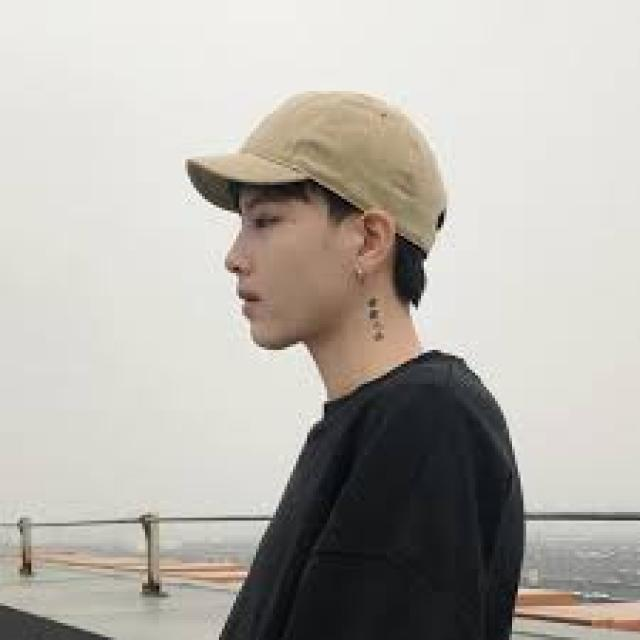cap: (162, 70, 478, 256)
